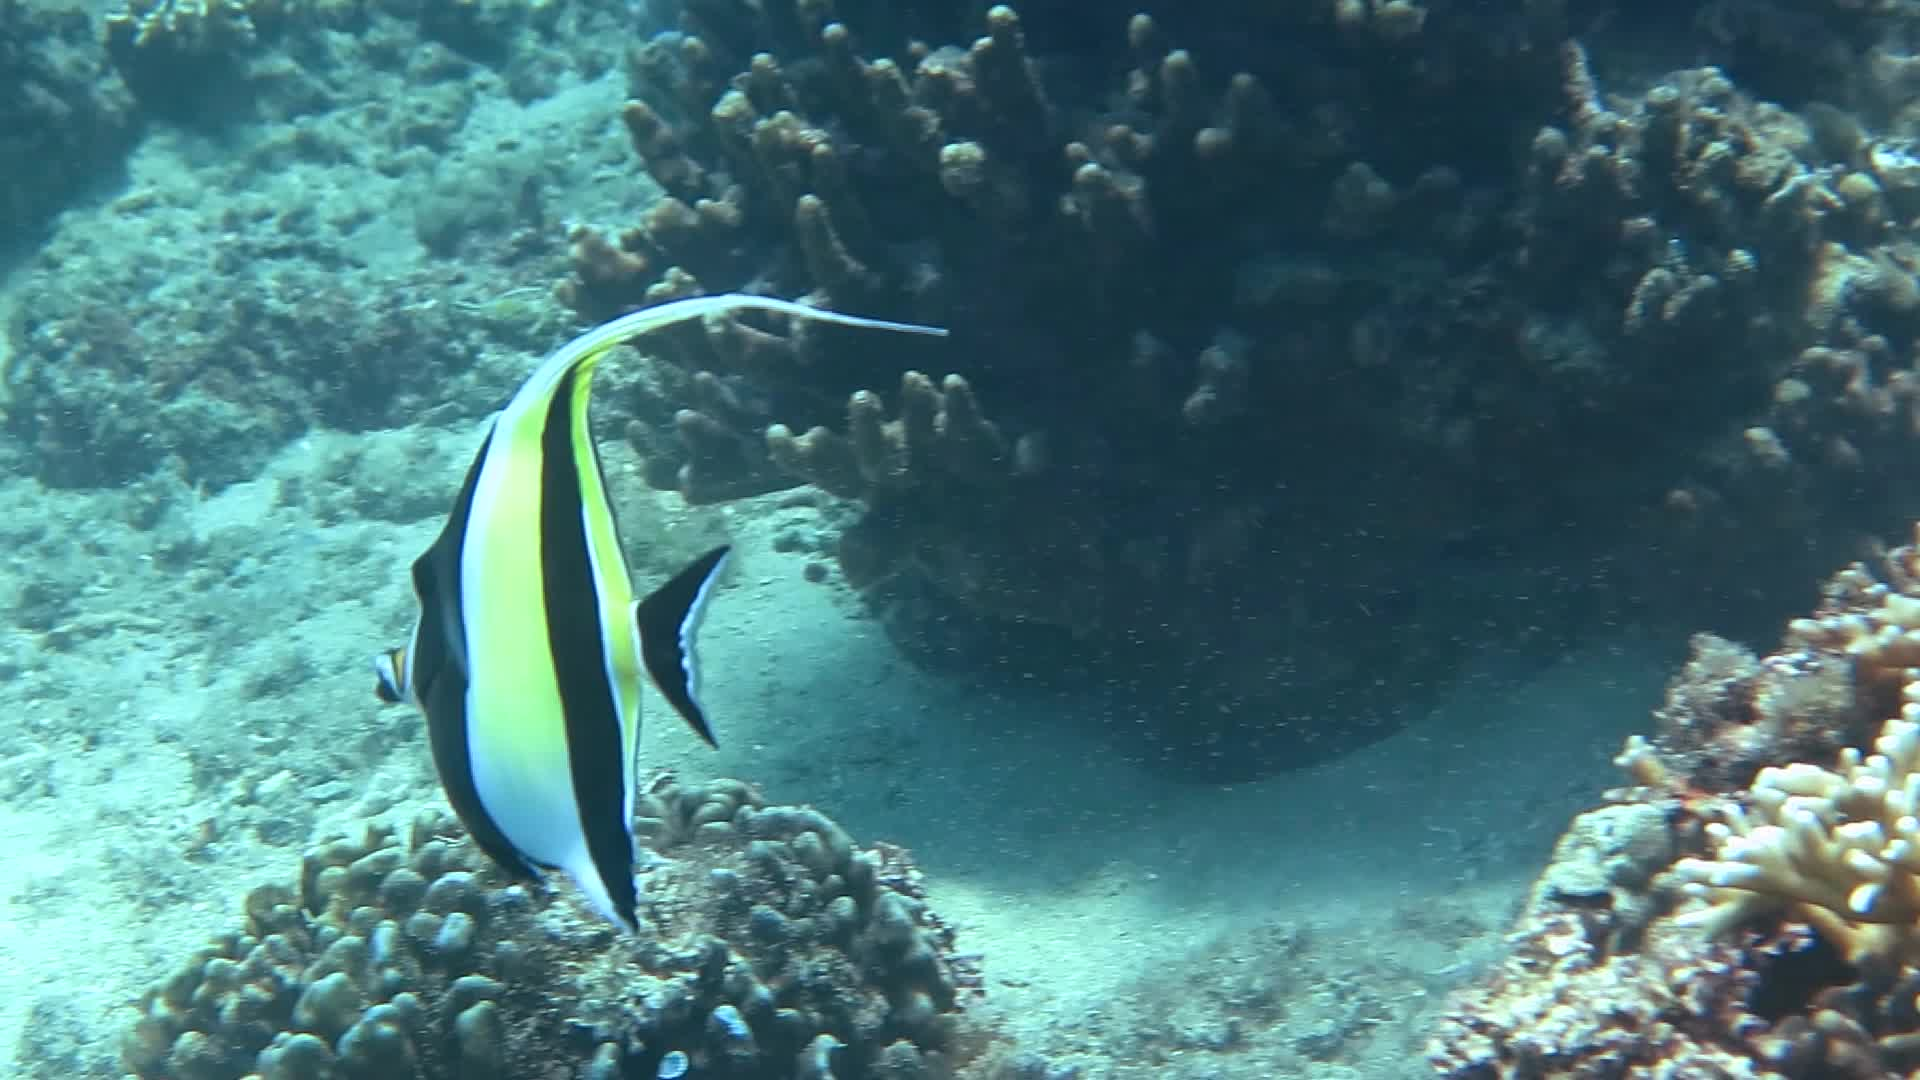Zanclus cornutus: (356, 310, 745, 963)
